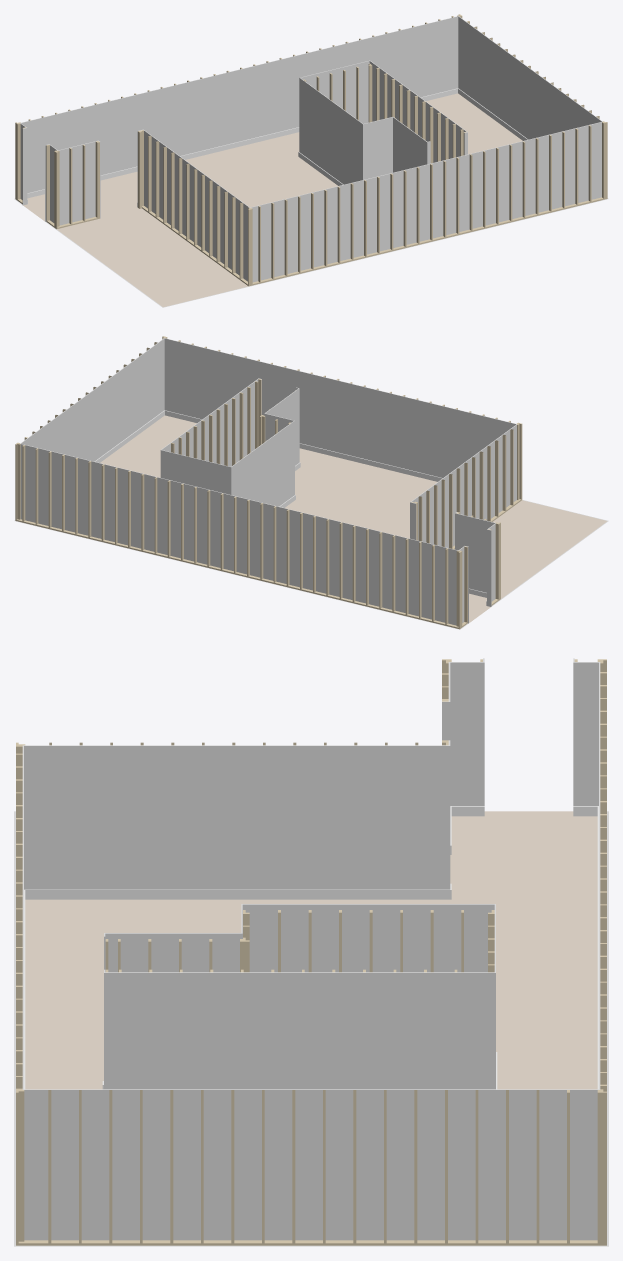
The model's file is sean-basement-model.glb.
The picture shows the model from 3 angles, top to bottom: view 1: azimuth 30°, elevation 25°; view 2: azimuth 150°, elevation 25°; view 3: azimuth 270°, elevation 25°; orthographic projection. The views are drawn at different scales.
Visible parts, largest first — view 1: Node954, Node1086, Node955, Node1074, Node1084, Node1083, Node1075, Node1076, Node958, Node1093, Node978, Node987 (+31 smaller); view 2: Node941, Node1086, Node955, Node1074, Node1084, Node1073, Node1057, Node958, Node1095, Node1022, Node1028, Node1051 (+34 smaller); view 3: Node942, Node1086, Node1072, Node1082, Node1080, Node1058, Node1002, Node1004, Node1006, Node1008, Node1010, Node1012 (+23 smaller).
Part boxes in pixels (x1,y1,x2,y2): Node954: (21, 16, 458, 193); Node1086: (23, 93, 522, 307); Node955: (458, 16, 601, 139); Node1074: (299, 78, 362, 184); Node1084: (369, 61, 465, 162); Node1083: (300, 61, 369, 123); Node1075: (363, 117, 392, 179); Node1076: (393, 117, 427, 172); Node958: (20, 16, 602, 207); Node1093: (27, 88, 457, 198); Node978: (312, 190, 324, 267); Node987: (431, 161, 443, 238); Node941: (164, 338, 515, 477); Node1086: (100, 415, 607, 622); Node955: (21, 338, 164, 461); Node1074: (231, 421, 294, 506); Node1084: (162, 379, 258, 466); Node1073: (160, 450, 231, 494); Node1057: (455, 513, 495, 592); Node958: (20, 338, 517, 550); Node1095: (165, 410, 442, 481); Node1022: (51, 451, 63, 529); Node1028: (131, 471, 142, 548); Node1051: (421, 542, 433, 619); Node942: (24, 746, 450, 889); Node1086: (25, 811, 597, 1089); Node1072: (104, 973, 495, 1089); Node1082: (242, 904, 494, 972); Node1080: (105, 933, 242, 972); Node1058: (450, 662, 484, 805); Node1002: (81, 1090, 109, 1240); Node1004: (142, 1090, 170, 1240); Node1006: (203, 1090, 231, 1240); Node1008: (264, 1090, 292, 1240); Node1010: (325, 1090, 353, 1240); Node1012: (386, 1090, 414, 1240).
Size of the model in its own units: 540 by 91.5 by 312.
